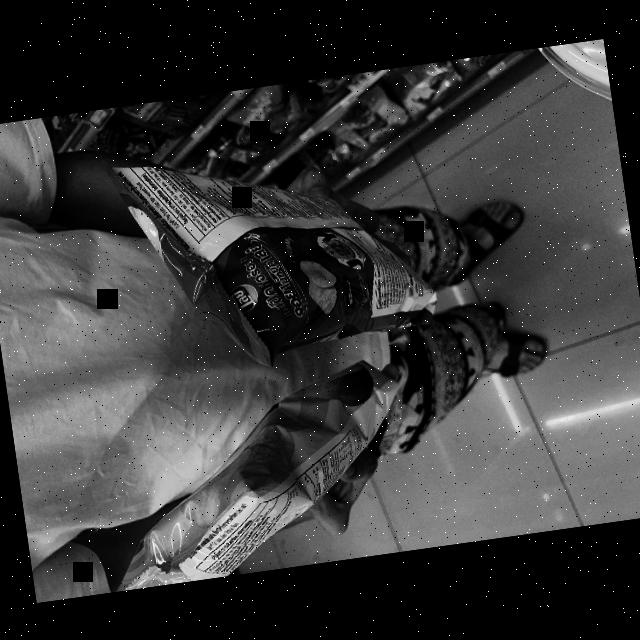snack_bag: (96, 111, 446, 383), (85, 353, 432, 591)
